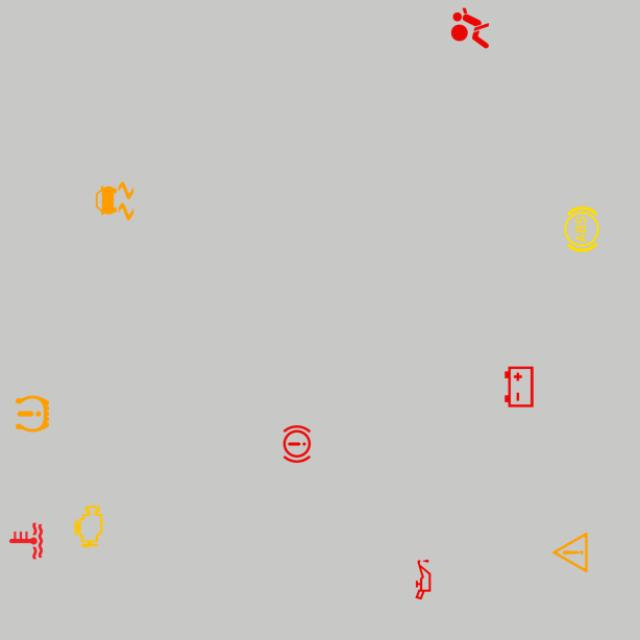Anti Lock Braking System: (556, 204, 606, 254)
Braking System Issue: (272, 419, 322, 469)
Charging System Issue: (494, 362, 544, 412)
Check Engine: (64, 502, 114, 552)
Electronic Stability Problem -ESP-: (90, 176, 140, 226)
Engine Overheating Warning Light: (1, 516, 51, 566)
Low Engine Oil Warning Light: (398, 554, 448, 604)
Low Tire Pressure Warning Light: (8, 389, 58, 439)
Master warning light: (545, 528, 595, 578)
SRS-Airbag: (445, 3, 495, 53)
